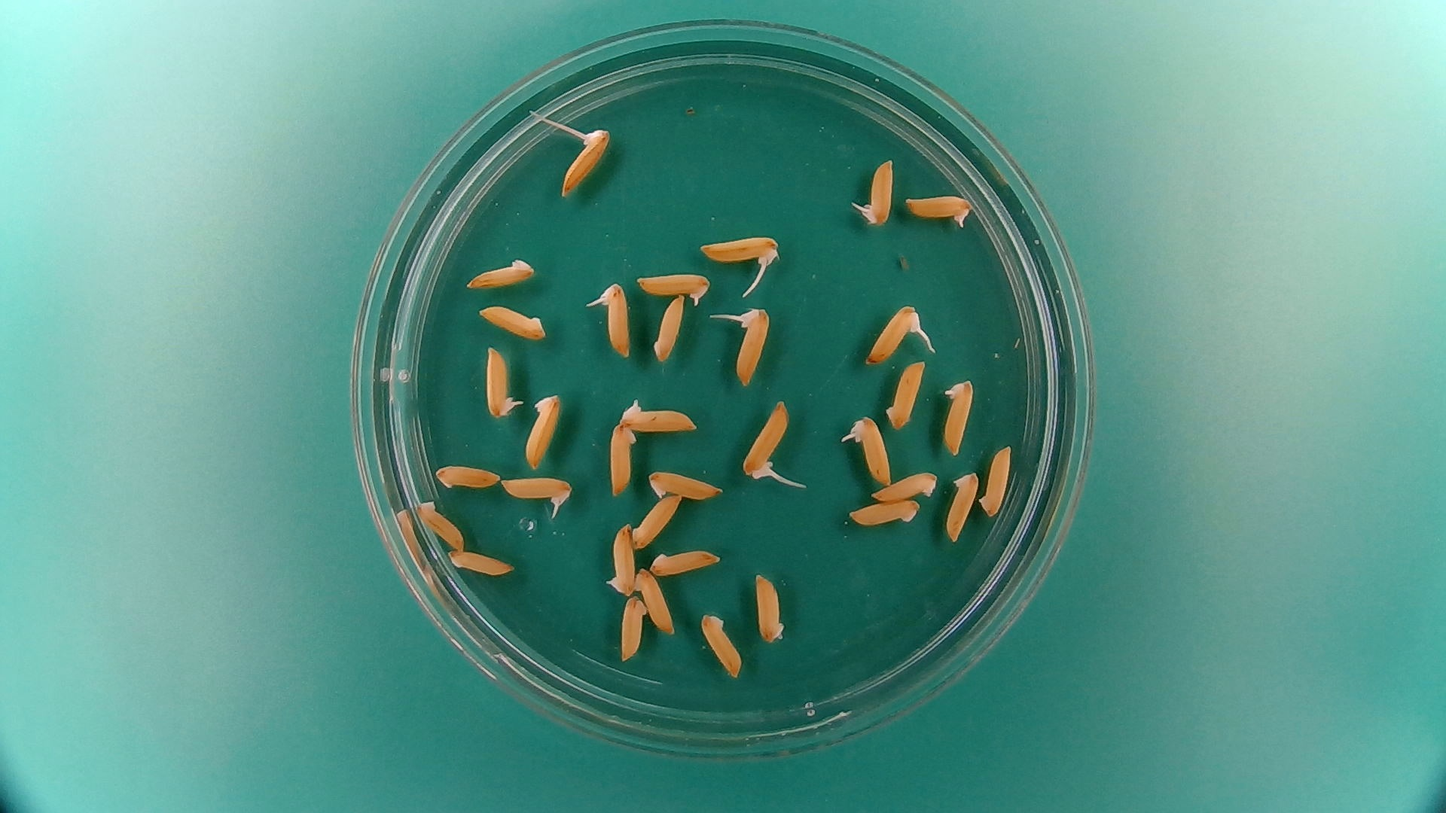no: (522, 387, 564, 472), (883, 355, 929, 431), (698, 609, 746, 681), (630, 492, 684, 551), (474, 300, 548, 343), (644, 464, 725, 503), (938, 375, 975, 458), (462, 251, 538, 291), (942, 467, 980, 544), (635, 569, 676, 638), (413, 499, 468, 550), (978, 442, 1013, 521), (602, 518, 636, 598), (753, 568, 788, 645), (867, 467, 940, 503), (606, 421, 639, 500), (444, 544, 517, 579), (651, 294, 686, 364), (845, 498, 920, 529), (649, 549, 724, 579), (432, 460, 503, 491), (618, 592, 648, 663)
yes: (740, 395, 792, 485), (841, 413, 893, 486), (613, 394, 706, 434), (862, 305, 923, 364), (558, 127, 610, 195), (482, 340, 523, 421), (856, 154, 898, 226), (633, 269, 714, 306), (901, 189, 975, 229), (696, 234, 783, 268), (497, 472, 577, 507), (733, 310, 770, 385), (601, 279, 633, 359)
